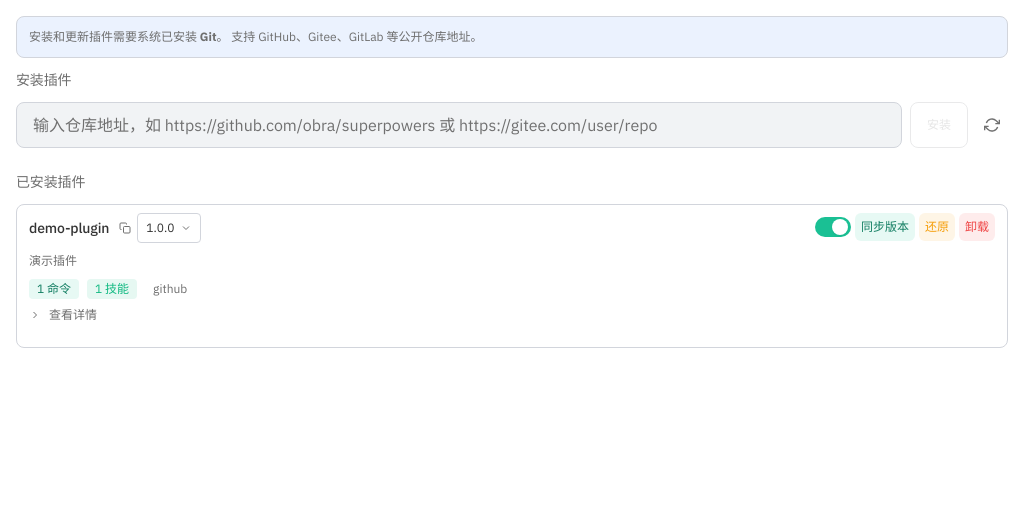
Test case: PluginDialog capability 刷新接线 › 渲染插件卡片并可展开详情（懒加载能力明细）
Expected: the text "demo-plugin" is shown, [29,219,109,237]
Click the button "查看详情" at (63, 314), box [29,306,97,322]
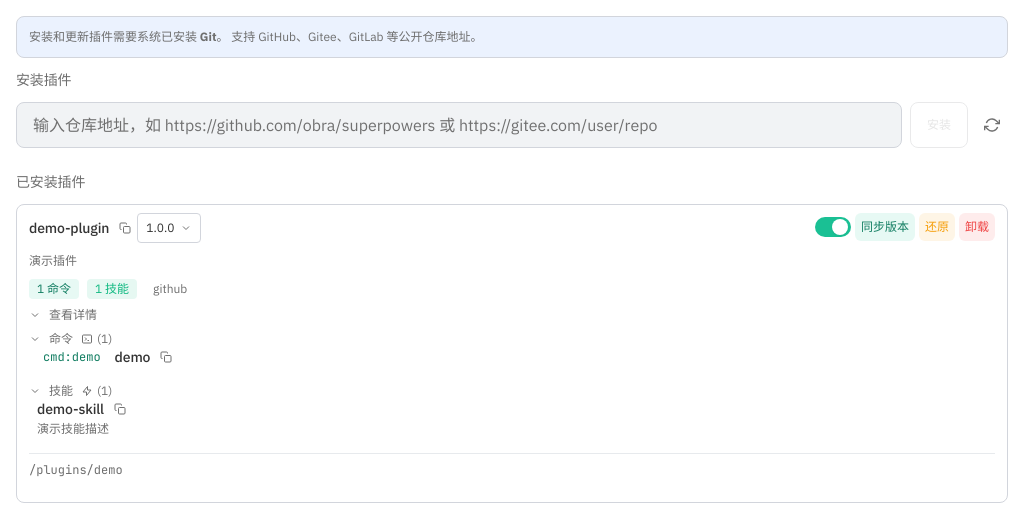
Expected: the text "技能" is shown, [49,382,73,398]
Expected: the text "demo-skill" is shown, [37,398,104,418]
